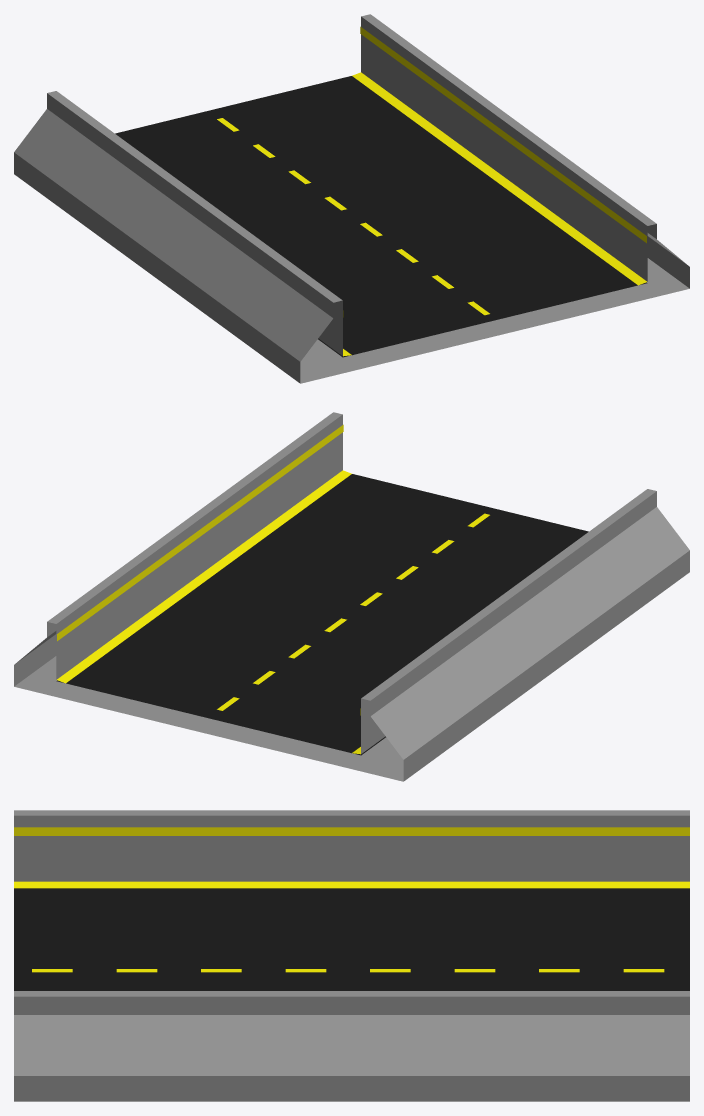
File: Road_Segment.FBX
3 views of the same model, one above another, from view 1: azimuth 30°, elevation 25°; view 2: azimuth 150°, elevation 25°; view 3: azimuth 270°, elevation 25° (orthographic). The views are drawn at different scales.
Parts seen in each view (by area): view 1: Road_seqment, Base, Stripes; view 2: Road_seqment, Base, Stripes; view 3: Base, Road_seqment, Stripes.
Part boxes in pixels (<box>): Road_seqment: <box>115,76,647,357</box>; Base: <box>14,14,689,383</box>; Stripes: <box>217,26,646,356</box>; Road_seqment: <box>56,474,588,755</box>; Base: <box>14,412,689,781</box>; Stripes: <box>57,424,489,754</box>; Base: <box>14,810,689,1101</box>; Road_seqment: <box>14,888,689,990</box>; Stripes: <box>14,827,689,972</box>.
Bounding box in the file's own units: 1278 × 229 × 1628.
